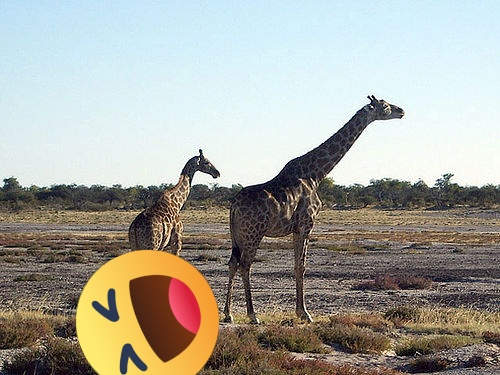haha: (76, 250, 219, 375)
